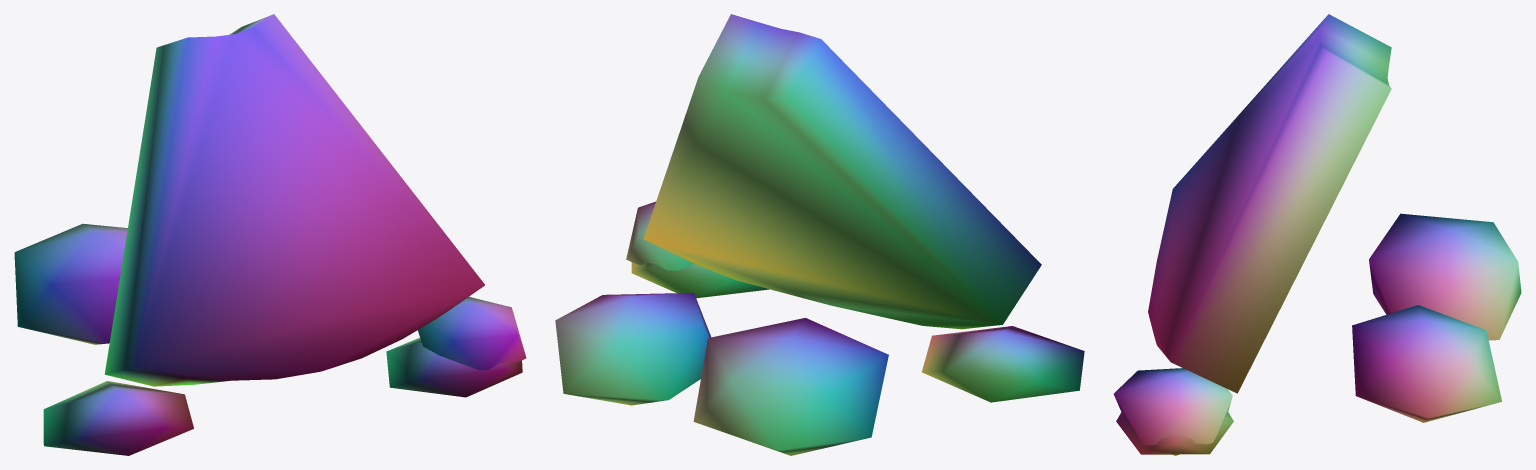
Rendered from SM_Prop_March_SealShard.fbx.
3 renders of one model, left to right at view 1: azimuth 30°, elevation 25°; view 2: azimuth 150°, elevation 25°; view 3: azimuth 270°, elevation 25°, orthographic. The views are drawn at different scales.
Parts seen in each view (by area): view 1: SM_Prop_March_SealShard; view 2: SM_Prop_March_SealShard; view 3: SM_Prop_March_SealShard.
Boxes of the visible parts, left/top/right/bottom form: SM_Prop_March_SealShard: left=14, top=14, right=526, bottom=455; SM_Prop_March_SealShard: left=555, top=14, right=1084, bottom=455; SM_Prop_March_SealShard: left=1113, top=14, right=1521, bottom=455.
Size of the model in its own units: 0.6059 by 0.4473 by 0.4764.
